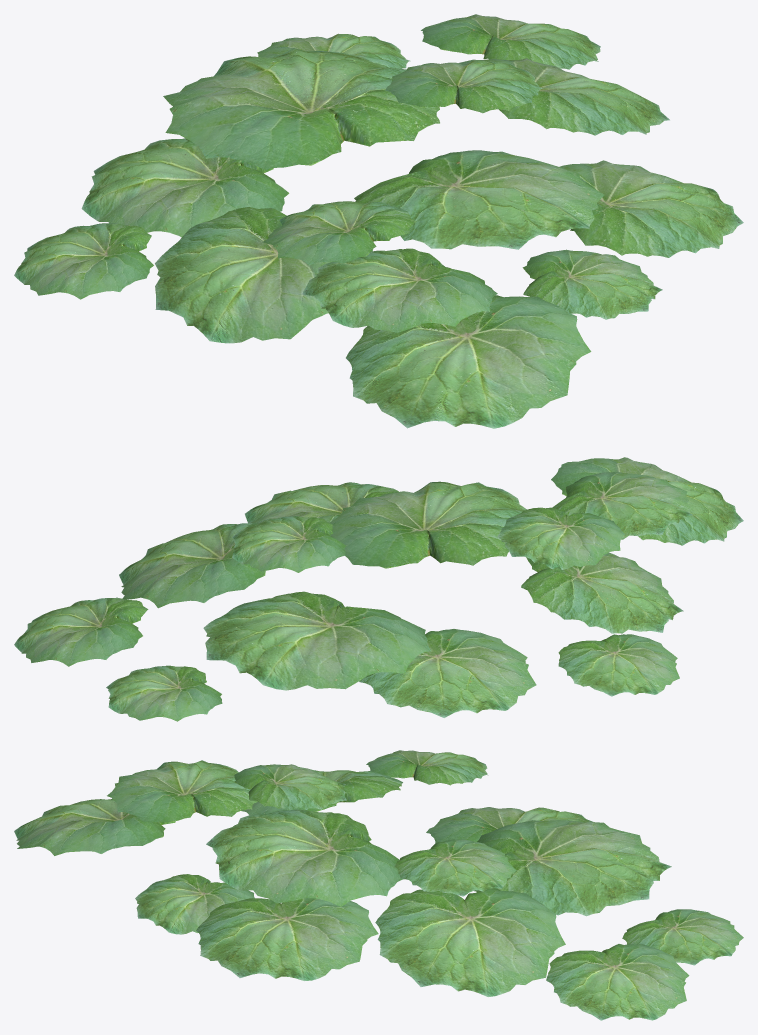
The model's file is Leopard4.fbx.
3 renders of one model, top to bottom at view 1: azimuth 30°, elevation 25°; view 2: azimuth 150°, elevation 25°; view 3: azimuth 270°, elevation 25°, orthographic. The views are drawn at different scales.
Parts seen in each view (by area): view 1: Leopard4; view 2: Leopard4; view 3: Leopard4.
Boxes of the visible parts, x1,y1,x2,y2 form: Leopard4: (14, 14, 743, 428); Leopard4: (14, 457, 743, 721); Leopard4: (14, 750, 743, 1020).
Bounding box in the file's own units: 119 × 17.7 × 139.
